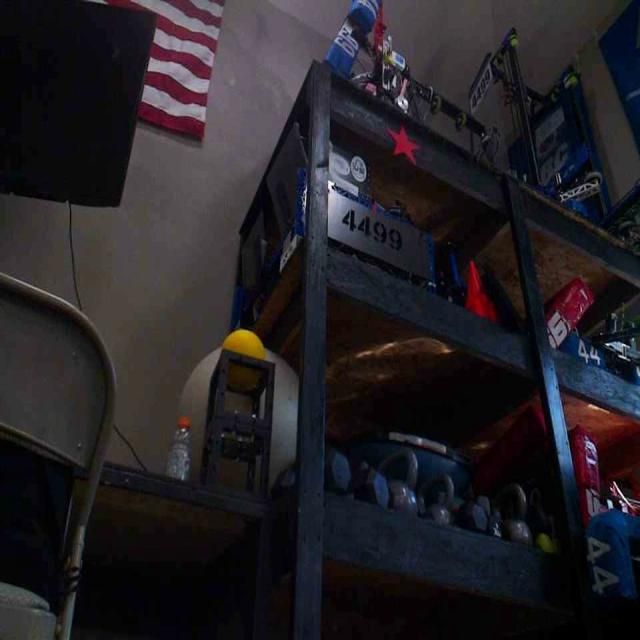star_red: (385, 124, 418, 160)
